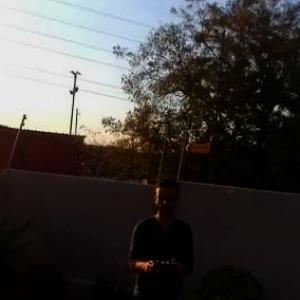follow: (119, 170, 200, 299)
